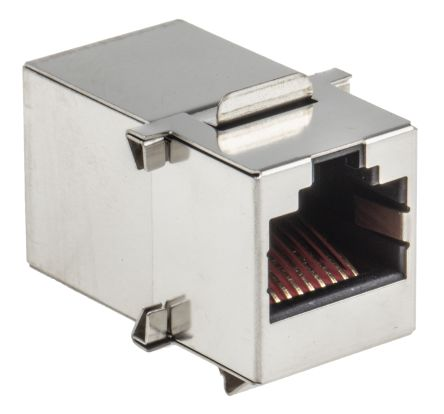lan: (258, 145, 413, 326)
